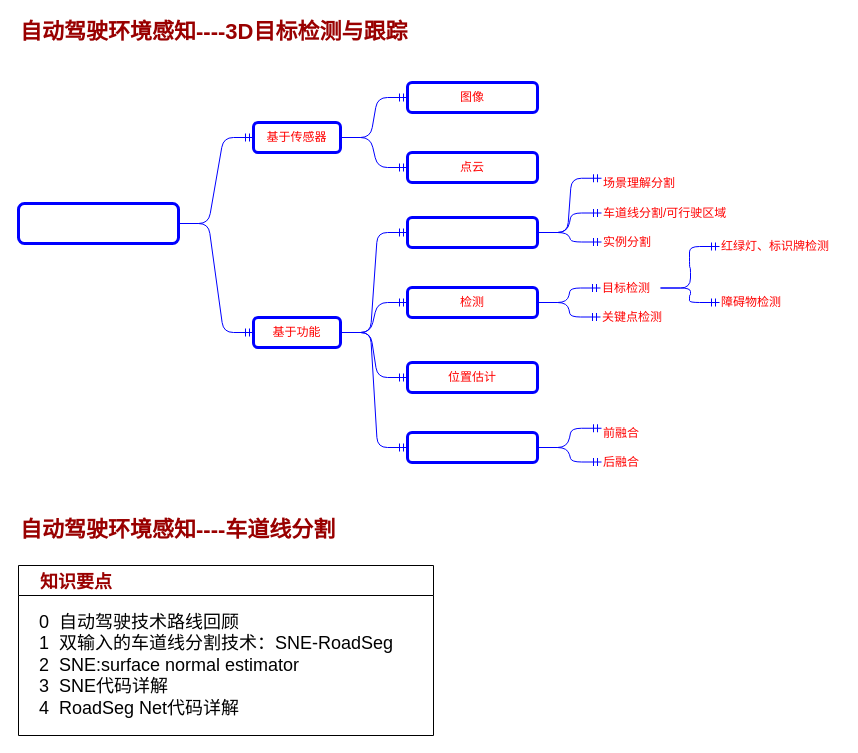
The diagram is 858 pixels wide and 753 high, and some of its shapes have lost their labels. Here are the shapes that lost their labels. From the top down, the box of each, then its label:
(16, 202, 180, 244): 感知模块技术细分
(406, 216, 538, 248): 分割
(406, 430, 538, 464): 融合
